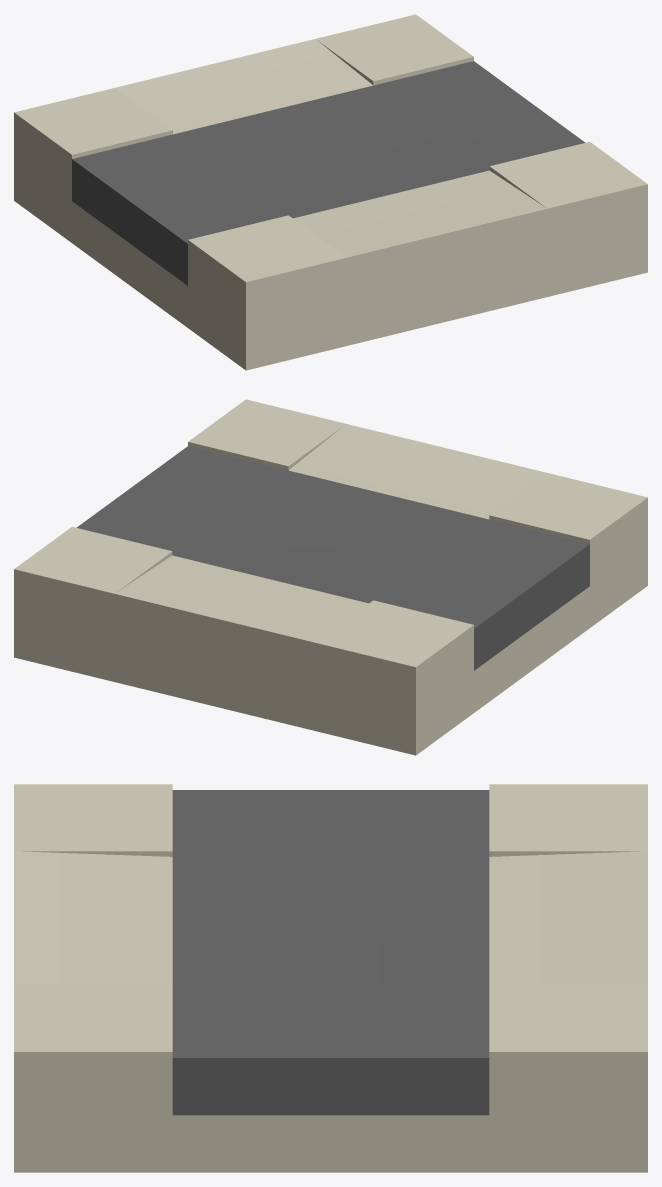
Rendered from roadTile_279.fbx.
3 views of the same model, one above another, from view 1: azimuth 30°, elevation 25°; view 2: azimuth 150°, elevation 25°; view 3: azimuth 270°, elevation 25° (orthographic). The views are drawn at different scales.
Visible parts, largest first — view 1: roadTile_279; view 2: roadTile_279; view 3: roadTile_279.
Part boxes in pixels (x1,y1,x2,y2): roadTile_279: (14, 14, 647, 370); roadTile_279: (14, 399, 647, 755); roadTile_279: (14, 784, 647, 1172).
Bounding box in the file's own units: 118 × 24.8 × 118.
